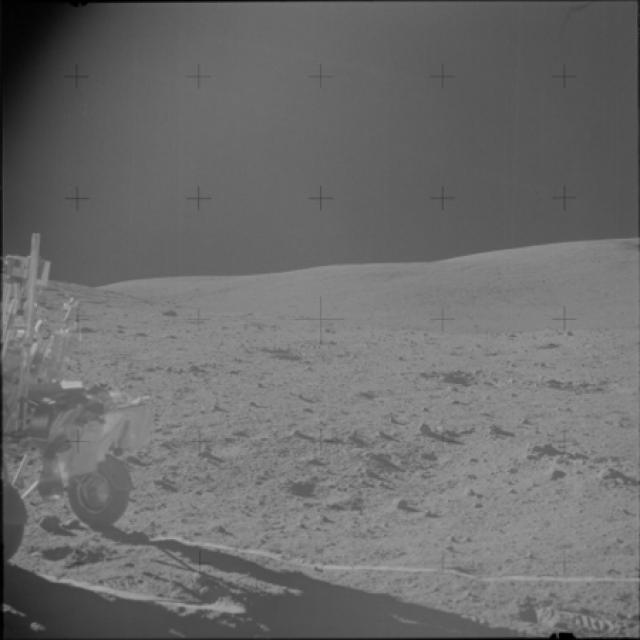crater: (536, 368, 630, 404), (424, 364, 519, 396), (278, 477, 349, 517)
rock: (508, 437, 580, 465), (401, 416, 459, 443), (590, 462, 636, 496), (32, 506, 73, 543)
